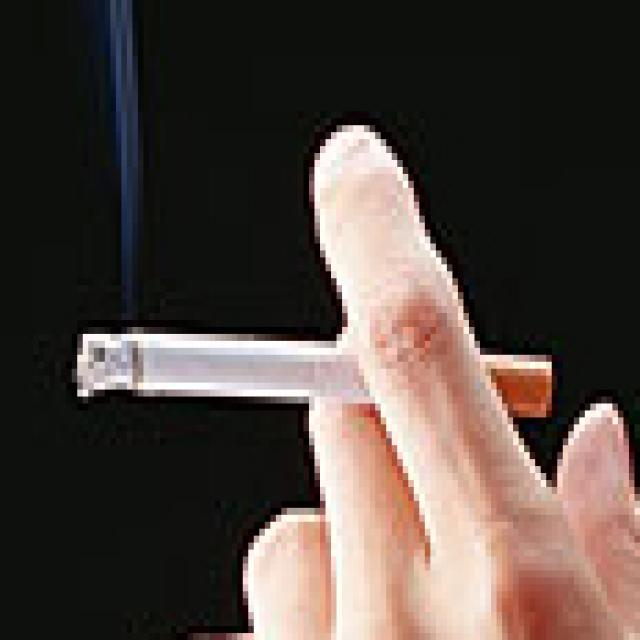smoking: (74, 329, 552, 414)
